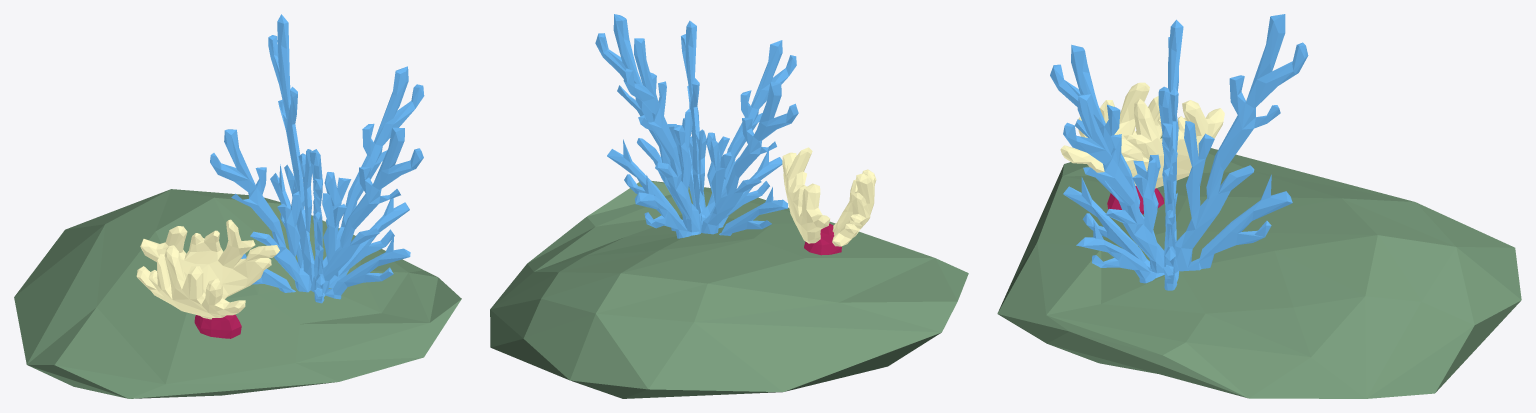
The model's file is Coralls_009.glb.
The picture shows the model from 3 angles, left to right: view 1: azimuth 30°, elevation 25°; view 2: azimuth 150°, elevation 25°; view 3: azimuth 270°, elevation 25°; orthographic projection. The views are drawn at different scales.
Visible parts, largest first — view 1: Coralls_009; view 2: Coralls_009; view 3: Coralls_009.
Boxes of the visible parts, bbox=[...] form: Coralls_009: bbox=[14, 14, 461, 398]; Coralls_009: bbox=[490, 14, 968, 398]; Coralls_009: bbox=[997, 14, 1521, 398].
Size of the model in its own units: 2.26 by 1.63 by 2.18.
2 materials, 2 textured.
